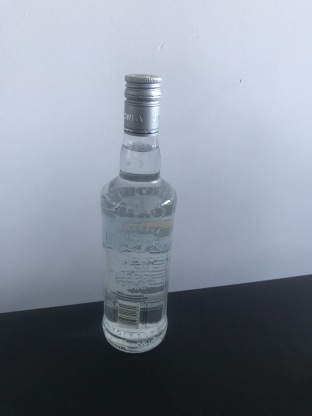nakretka: (122, 71, 163, 138)
